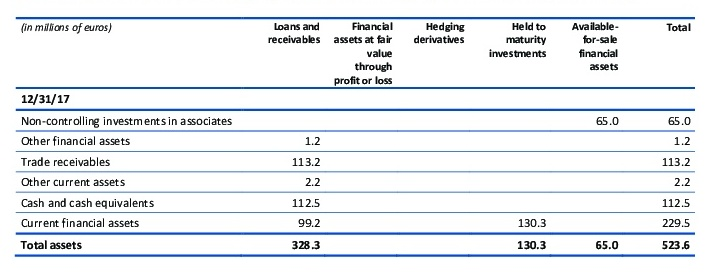table: (0, 0, 710, 273)
